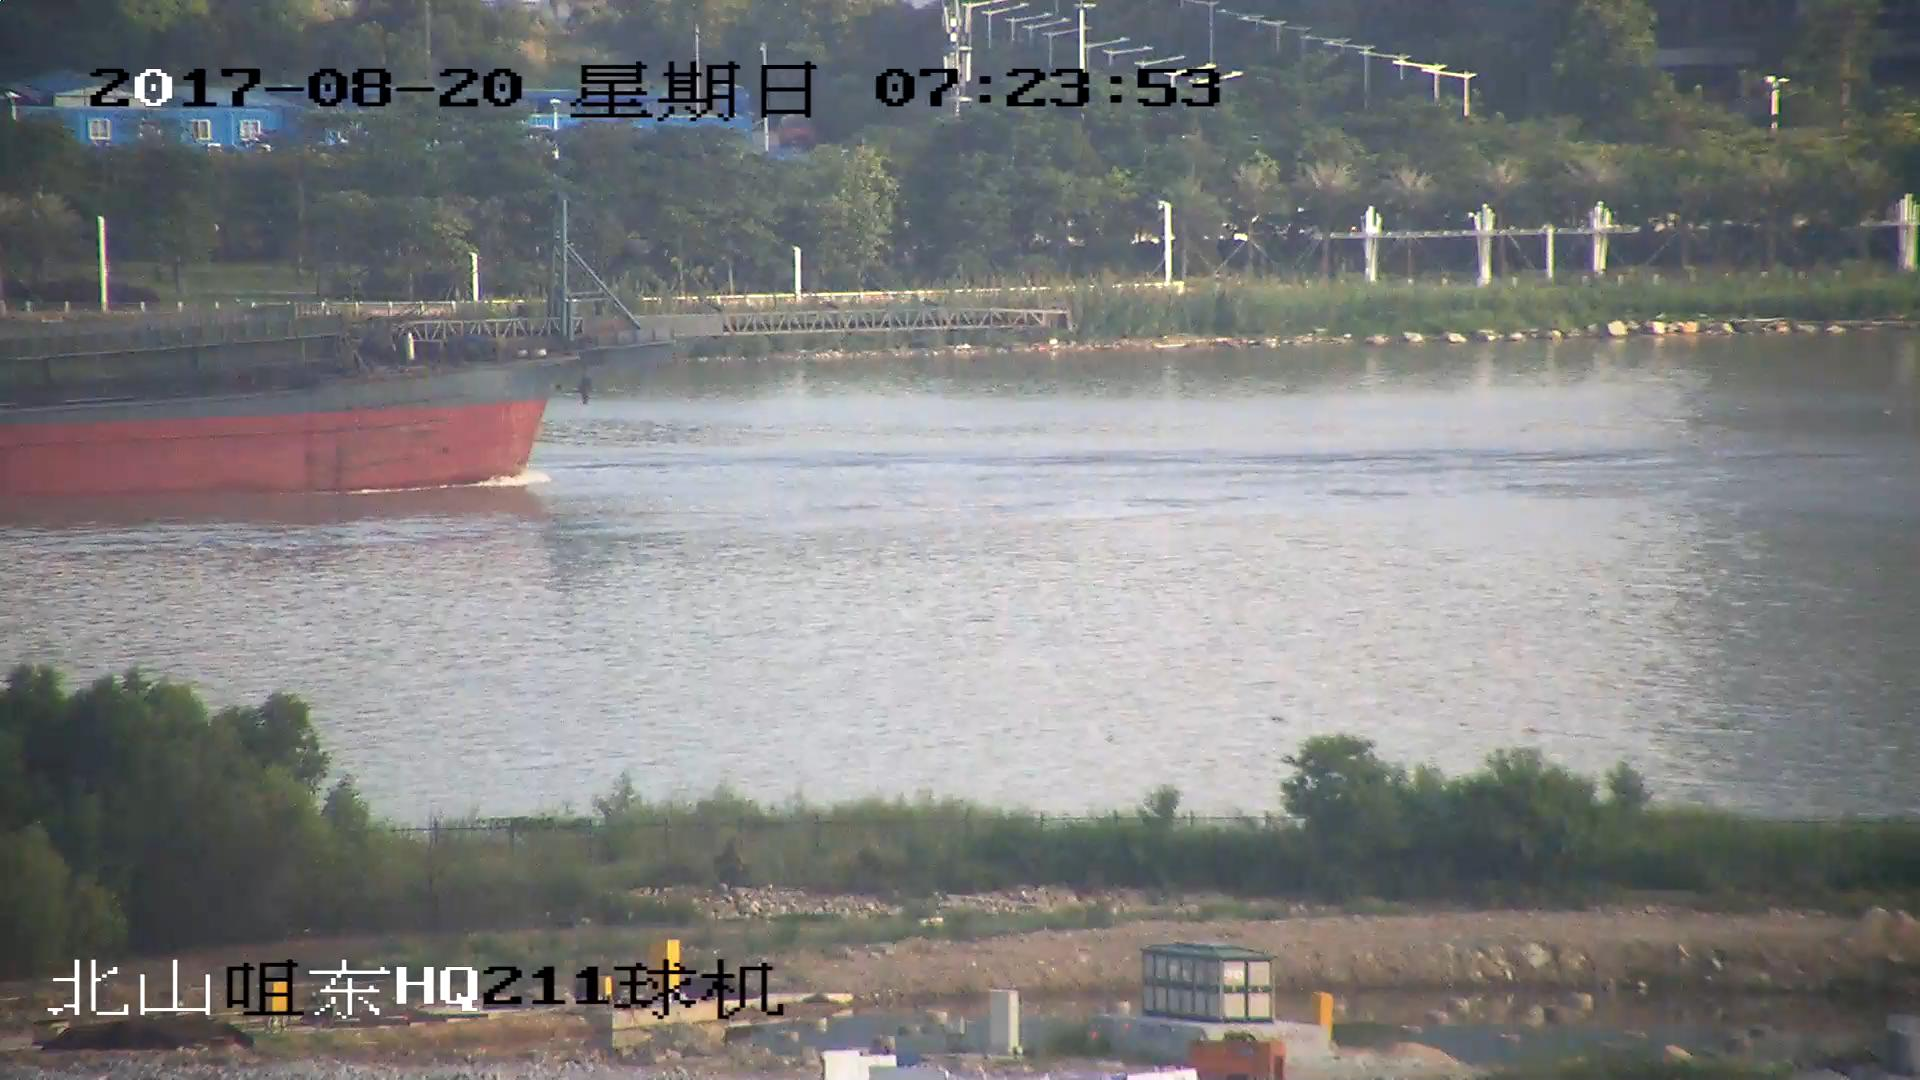bulk cargo carrier: (1, 173, 1054, 501)
